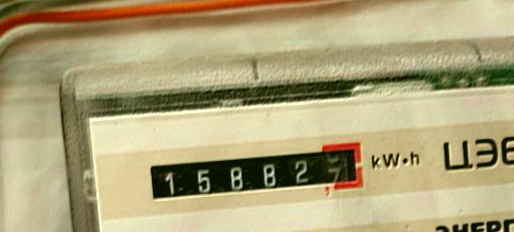1: (163, 168, 179, 197)
2: (293, 157, 311, 186)
5: (195, 166, 215, 194)
7: (326, 164, 343, 183)
8: (228, 164, 246, 193), (262, 160, 279, 189)
screen: (136, 133, 375, 212)
